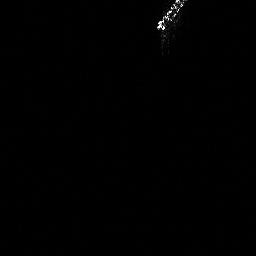ship: (152, 1, 188, 35)
